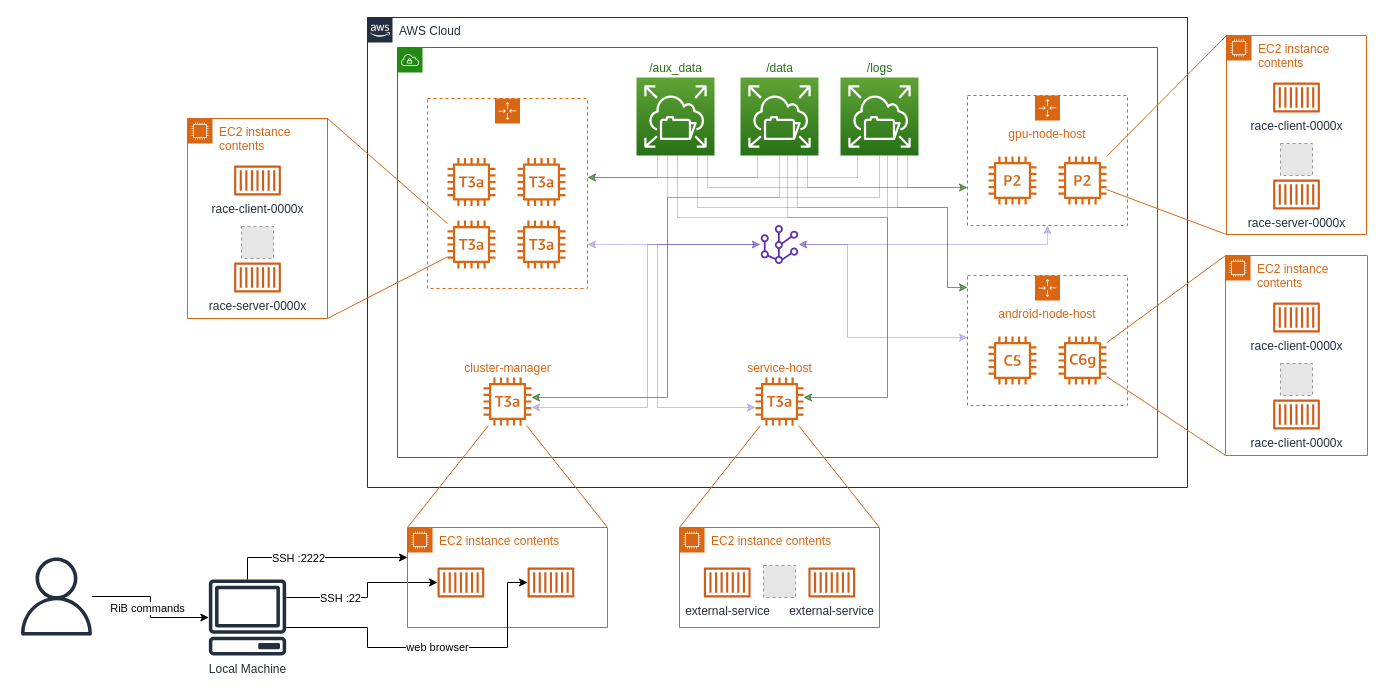
Image size: 1385x694. Some labels were removed from this diagram. Grey dashed boxes stand in for pictures. Here are the shapes that lost their labels. From the top down, the box of each, then its label:
(426, 98, 588, 288): linux-node-host
(396, 46, 1158, 458): VPC
(759, 224, 799, 264): rib-overlay-network
(17, 557, 95, 635): RiB User
(437, 567, 484, 597): bastion
(527, 567, 574, 597): opentracing
